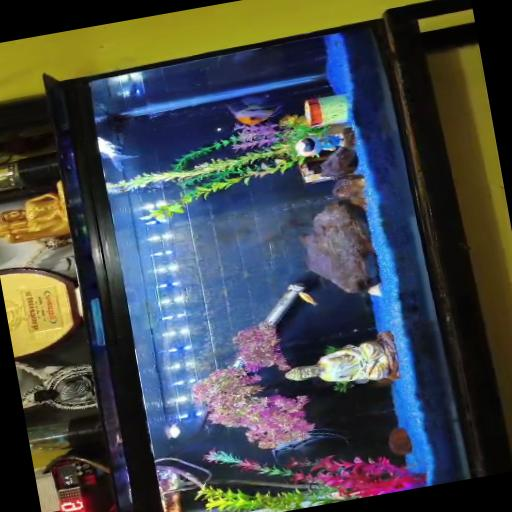Fish: (272, 428, 347, 464), (227, 96, 281, 125), (97, 137, 139, 171), (299, 292, 318, 305)
